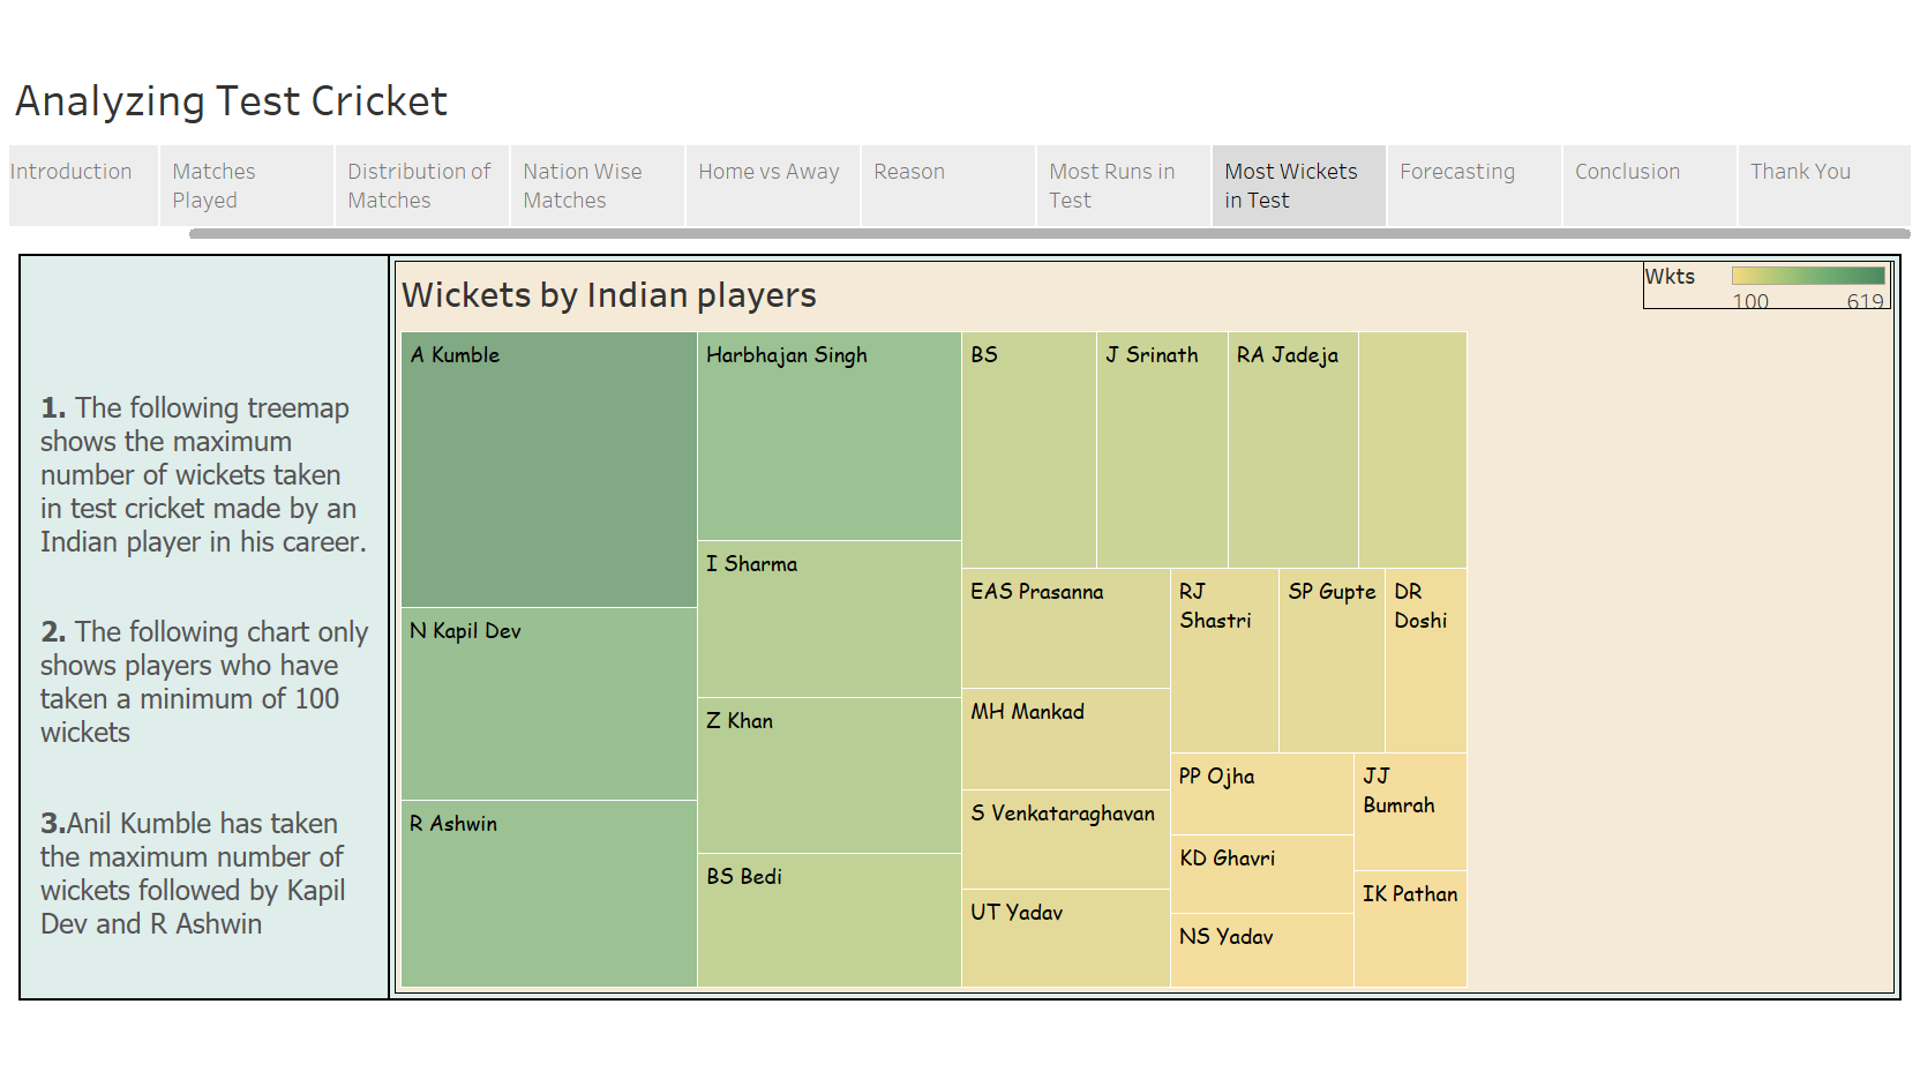

The page's visual inventory and layout, read from the dashboard file:
{"tool":"tableau","page":{"name":"Dashboard 7","canvas":[1000,1000],"units":"permille","ordinal":4},"visuals":[{"type":"text","box":[6.1,12.9,192.9,23.2]},{"type":"worksheet","title":"Wickets by Indian players","mark":"Automatic","box":[200.3,12.9,793.6,974.2]},{"type":"legend","title":"Wickets by Indian players","param":"[federated.01xco3g0f8nd7618em5m3163d5tn].[sum:Wkts:qk]","box":[859.2,20.6,130.2,64.4]},{"type":"text","box":[14.1,95.4,178,873.7]}]}

Visuals, with their boxes on the dashboard's canvas, which has no fixed pixel size, in thousandths of its width and height (x1, y1, x2, y2). These are canvas units, not pixel positions in the 1920x1080 screenshot, which may show the page scaled, cropped or inside an application window:
text: region(6, 13, 199, 36)
"Wickets by Indian players" worksheet: region(200, 13, 994, 987)
"Wickets by Indian players" legend: region(859, 21, 989, 85)
text: region(14, 95, 192, 969)
